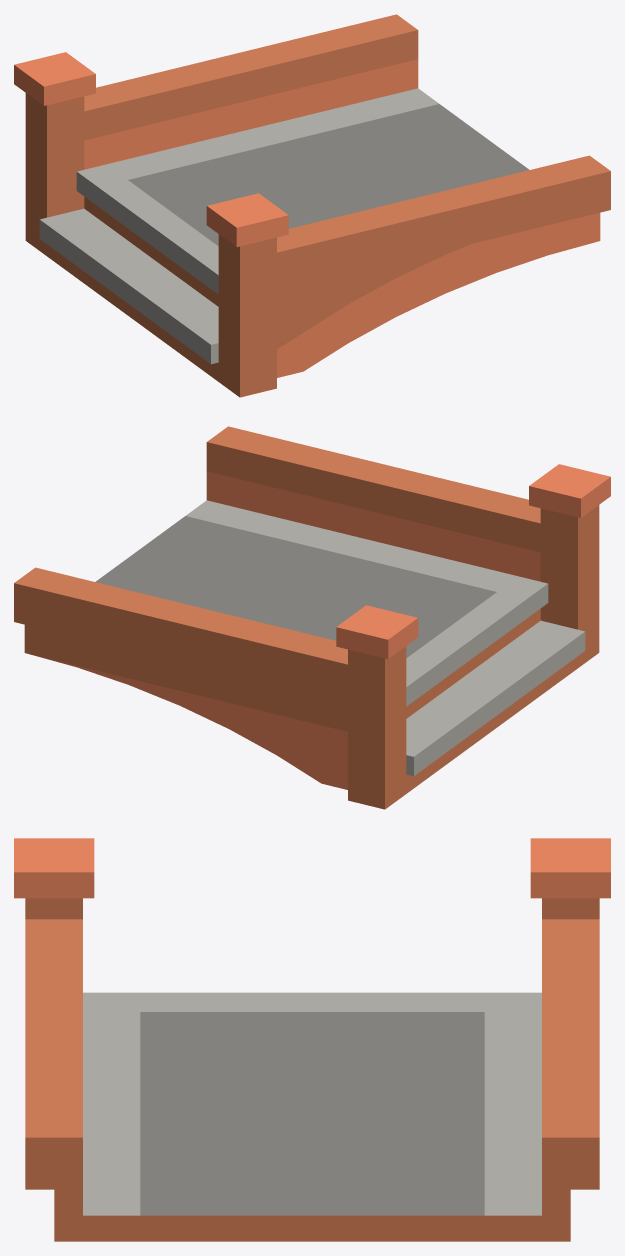
Rendered from bridge_side_woodRound.glb.
3 renders of one model, top to bottom at view 1: azimuth 30°, elevation 25°; view 2: azimuth 150°, elevation 25°; view 3: azimuth 270°, elevation 25°, orthographic. The views are drawn at different scales.
Visible parts, largest first — view 1: bridge_side_woodRound; view 2: bridge_side_woodRound; view 3: bridge_side_woodRound.
Boxes of the visible parts, x1,y1,x2,y2 form: bridge_side_woodRound: (14,14,610,397); bridge_side_woodRound: (14,426,610,809); bridge_side_woodRound: (14,838,610,1241).
Size of the model in its own units: 1.02 by 0.45 by 1.04.
